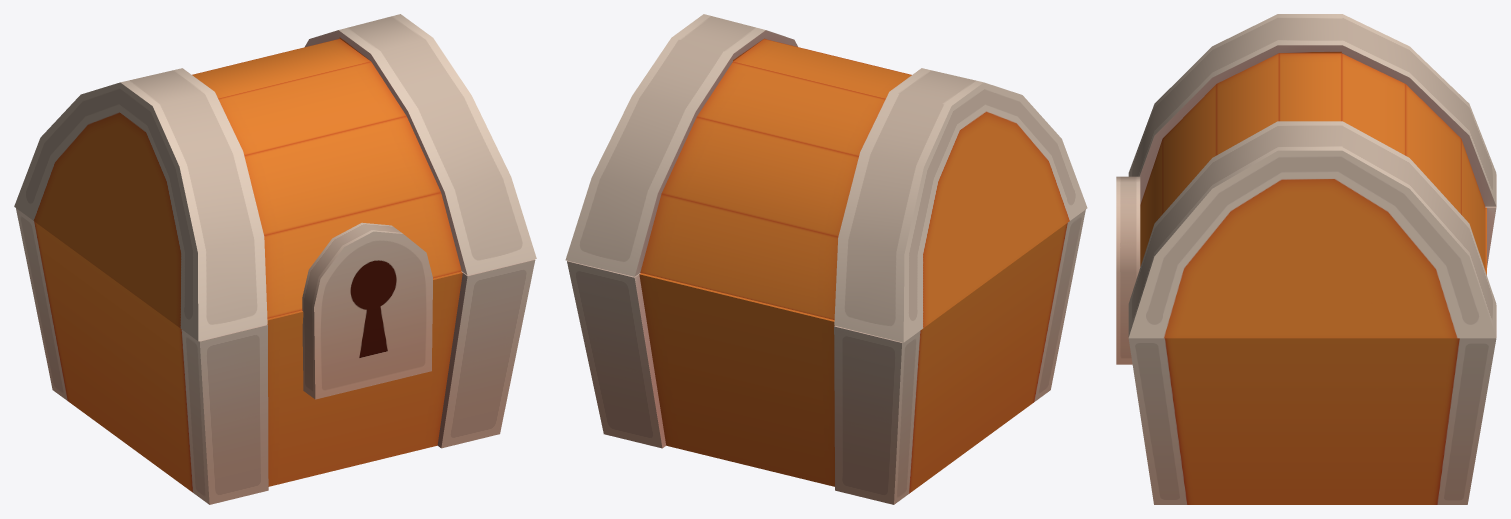
File: Chest.FBX
The picture shows the model from 3 angles, left to right: view 1: azimuth 30°, elevation 25°; view 2: azimuth 150°, elevation 25°; view 3: azimuth 270°, elevation 25°; orthographic projection.
Parts seen in each view (by area): view 1: ChestOpen, Chest; view 2: ChestOpen, Chest; view 3: ChestOpen, Chest.
Part boxes in pixels (x1=…): ChestOpen: x1=14, y1=14, x2=536, y2=399; Chest: x1=16, y1=208, x2=535, y2=504; ChestOpen: x1=565, y1=14, x2=1087, y2=342; Chest: x1=567, y1=209, x2=1085, y2=504; ChestOpen: x1=1116, y1=14, x2=1496, y2=364; Chest: x1=1128, y1=174, x2=1496, y2=504.
Bounding box in the file's own units: 99.61 × 99.03 × 96.93.
